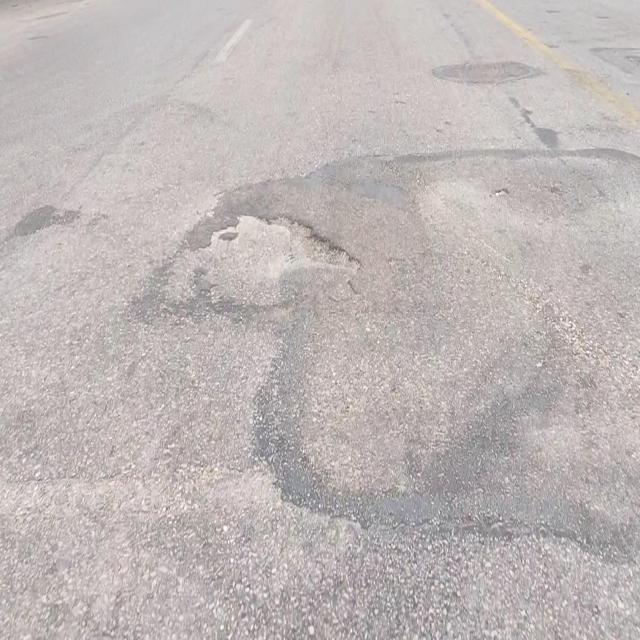Potholes: (164, 209, 364, 311)
